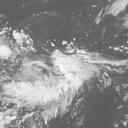cyclone: (23, 51, 84, 105)
